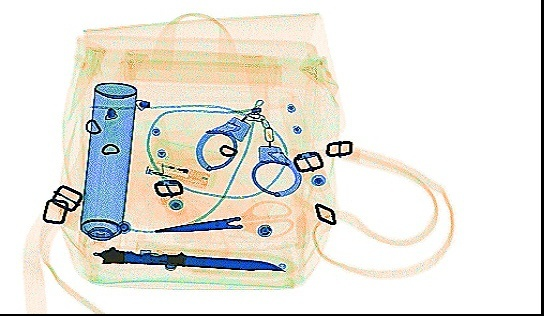handcuffs: (191, 99, 300, 197)
knife: (88, 245, 295, 273)
lighter: (141, 157, 209, 189)
pressure: (76, 80, 135, 240)
scissors: (153, 197, 293, 240)
